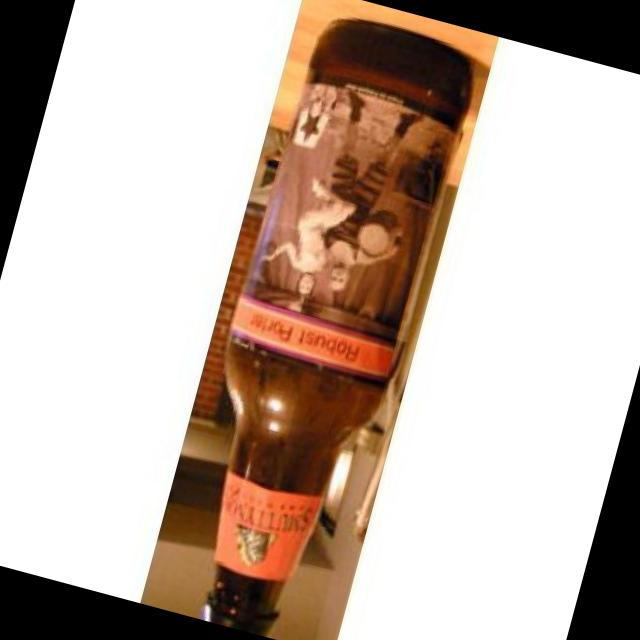BotolKaca: (154, 6, 487, 640)
